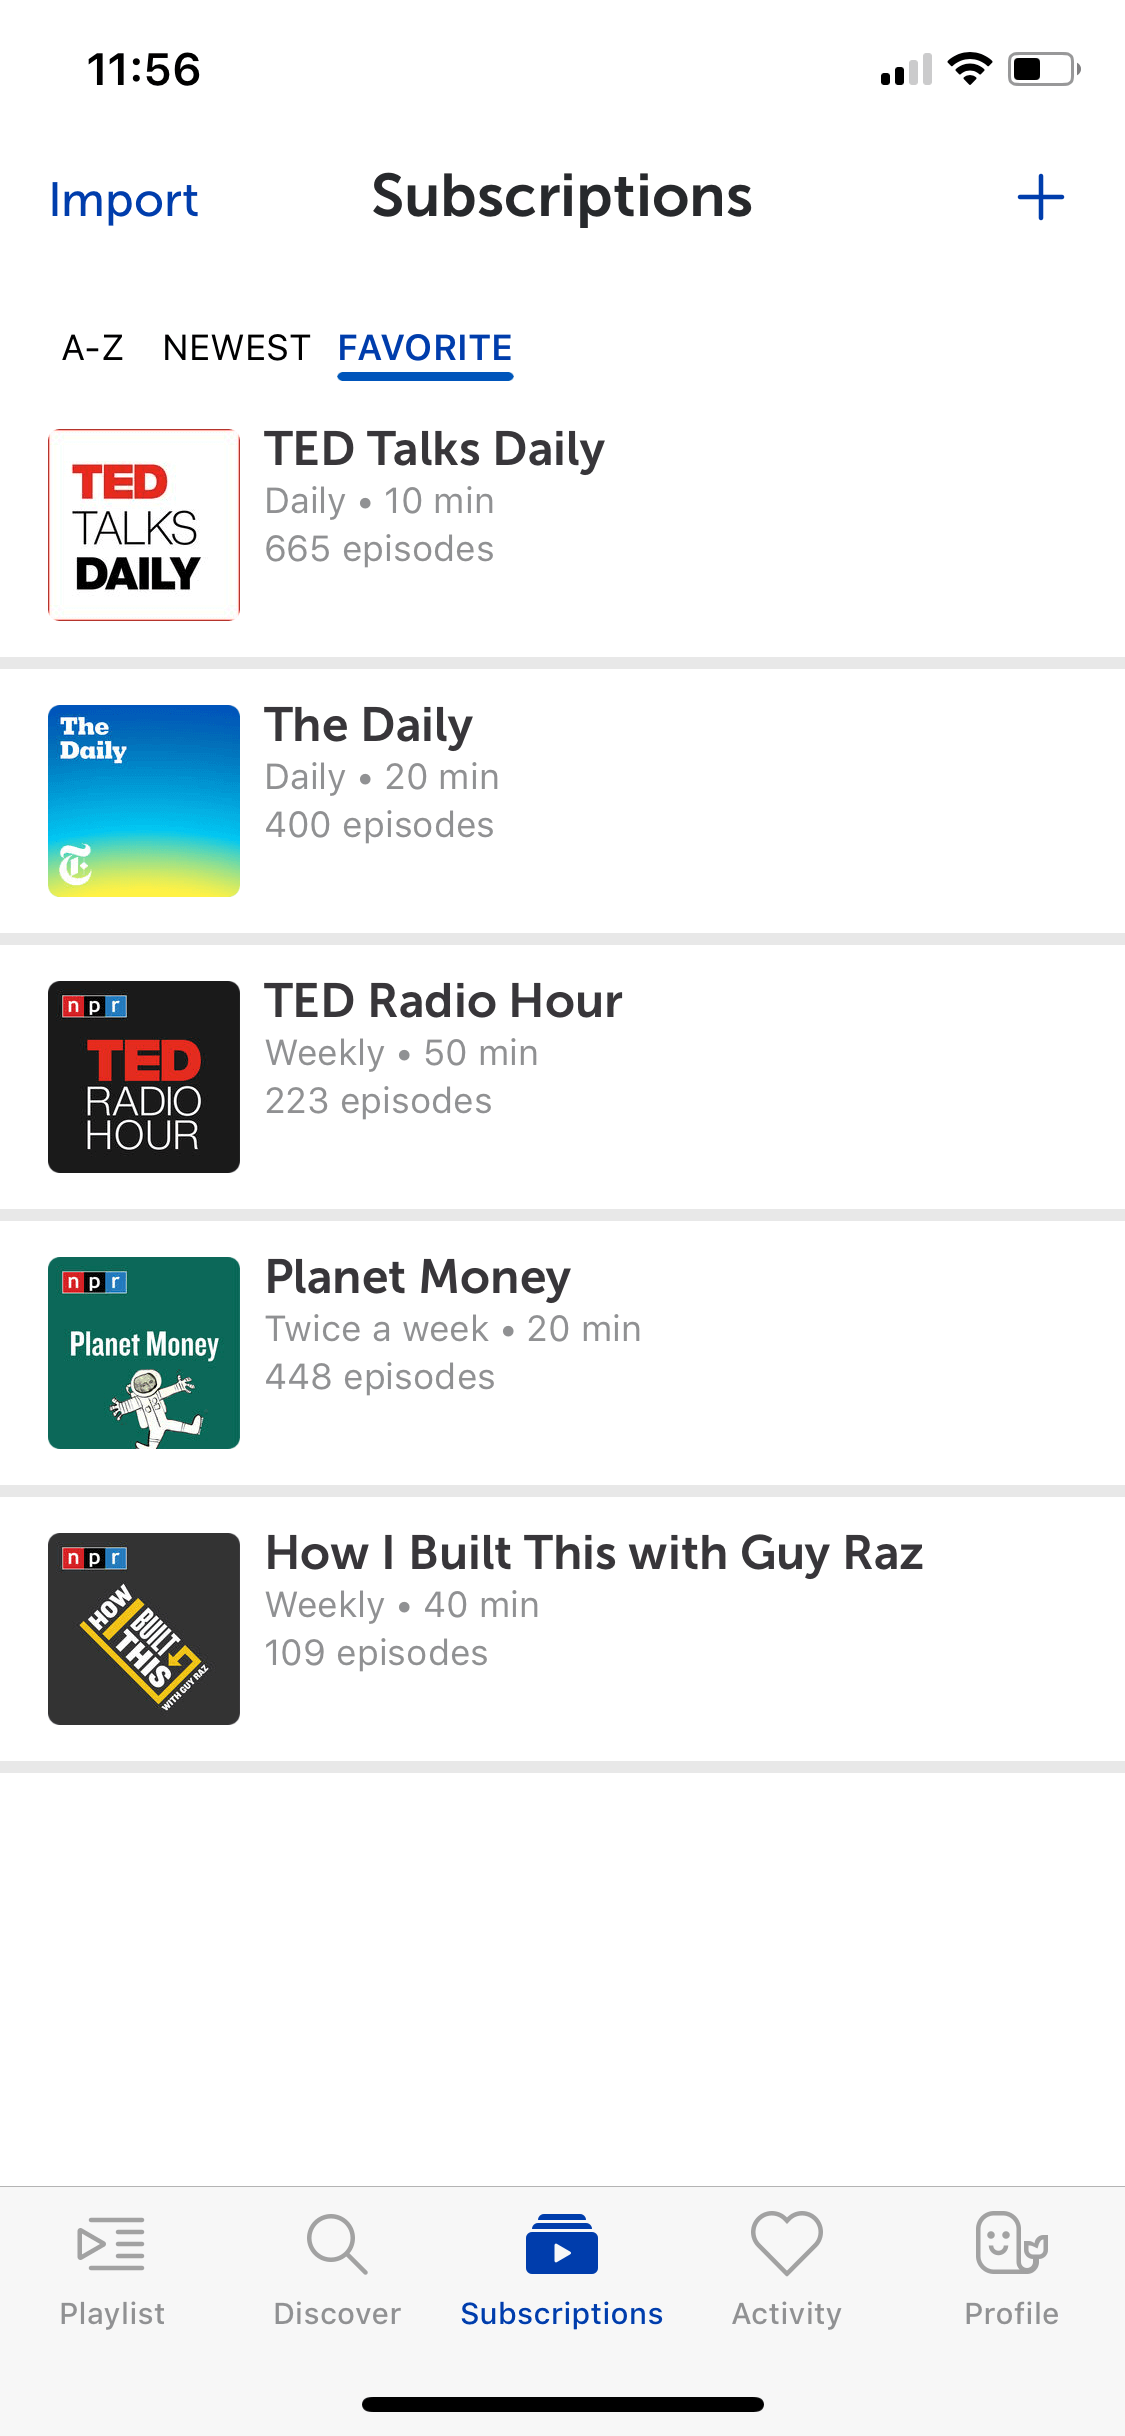Buttons: (17, 127, 256, 270), (984, 130, 1102, 269)
